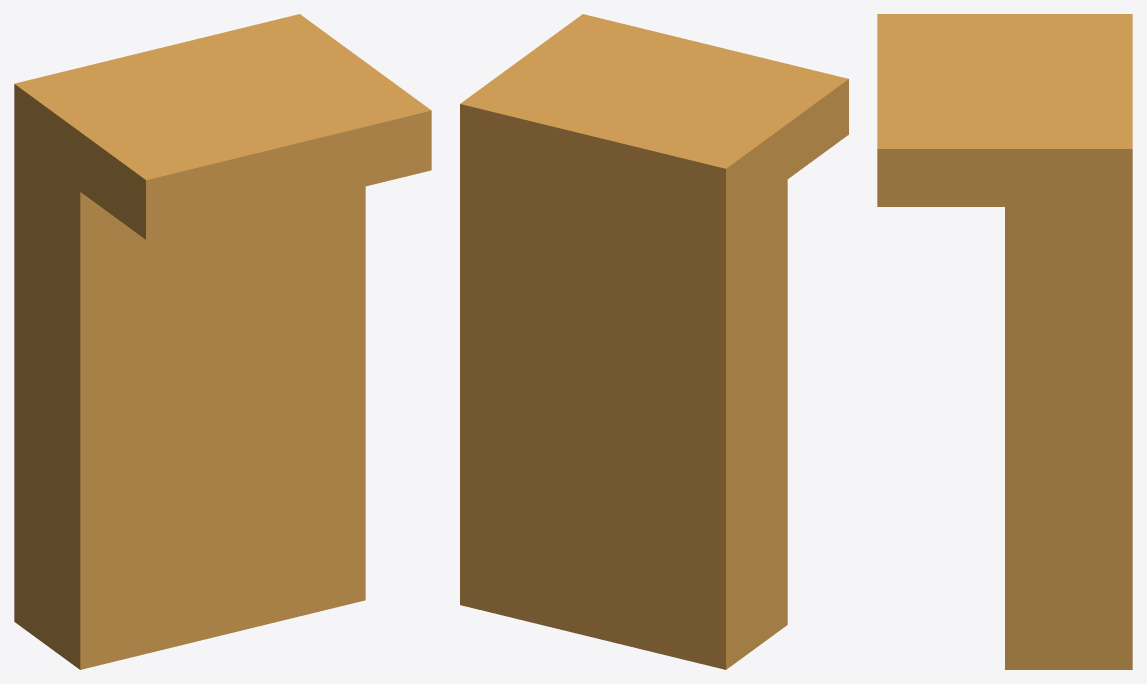
File: ledge_shelf_1x1p8.glb
The picture shows the model from 3 angles, left to right: view 1: azimuth 30°, elevation 25°; view 2: azimuth 150°, elevation 25°; view 3: azimuth 270°, elevation 25°; orthographic projection. The views are drawn at different scales.
Visible parts, largest first — view 1: ledge_shelf_core, ledge_shelf_slab; view 2: ledge_shelf_core, ledge_shelf_slab; view 3: ledge_shelf_core, ledge_shelf_slab.
Part boxes in pixels (x1,y1,x2,y2): ledge_shelf_core: (14, 144, 365, 669); ledge_shelf_slab: (14, 14, 431, 239); ledge_shelf_core: (460, 159, 787, 669); ledge_shelf_slab: (460, 14, 848, 224); ledge_shelf_core: (1005, 207, 1132, 669); ledge_shelf_slab: (877, 14, 1132, 206).
Size of the model in its own units: 1 by 1.8 by 0.8.
